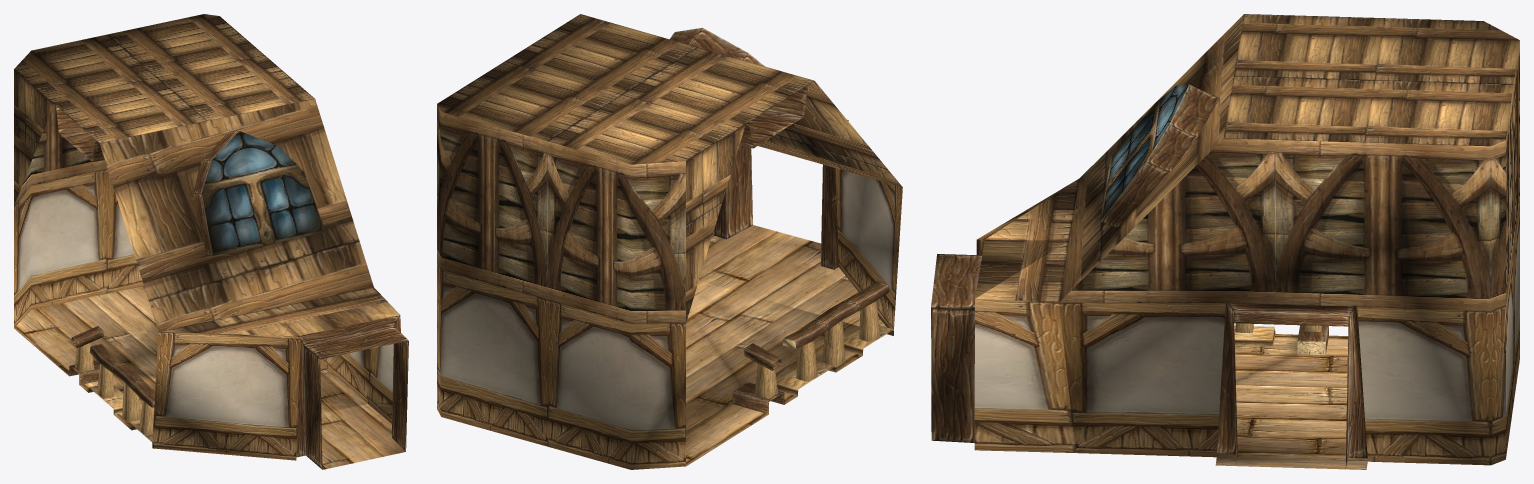
File: stormwind_245.fbx
3 renders of one model, left to right at view 1: azimuth 30°, elevation 25°; view 2: azimuth 150°, elevation 25°; view 3: azimuth 270°, elevation 25°, orthographic. The views are drawn at different scales.
Visible parts, largest first — view 1: stormwind_245_55, stormwind_245_48, stormwind_245_51, stormwind_245_53, stormwind_245_84, stormwind_245_49, stormwind_245_54; view 2: stormwind_245_48, stormwind_245_55, stormwind_245_49, stormwind_245_51, stormwind_245_53, stormwind_245_54; view 3: stormwind_245_49, stormwind_245_48, stormwind_245_55, stormwind_245_53, stormwind_245_51, stormwind_245_84, stormwind_245_54.
Boxes of the visible parts, box(x1,y1,x2,y2) form: stormwind_245_55: box(14, 14, 399, 338); stormwind_245_48: box(14, 169, 393, 460); stormwind_245_51: box(14, 286, 405, 469); stormwind_245_53: box(56, 106, 408, 469); stormwind_245_84: box(202, 131, 325, 255); stormwind_245_49: box(14, 104, 107, 205); stormwind_245_54: box(74, 342, 154, 435); stormwind_245_48: box(437, 168, 902, 469); stormwind_245_55: box(437, 14, 902, 322); stormwind_245_49: box(437, 104, 685, 323); stormwind_245_51: box(686, 225, 886, 466); stormwind_245_53: box(670, 27, 893, 414); stormwind_245_54: box(754, 301, 880, 398); stormwind_245_49: box(1059, 41, 1519, 311); stormwind_245_48: box(974, 207, 1519, 465); stormwind_245_55: box(975, 14, 1519, 302); stormwind_245_53: box(931, 84, 1367, 468); stormwind_245_51: box(1215, 334, 1367, 469); stormwind_245_84: box(1100, 84, 1188, 221); stormwind_245_54: box(1235, 323, 1325, 354).
Size of the model in its own units: 8.08 by 8.49 by 14.18.
